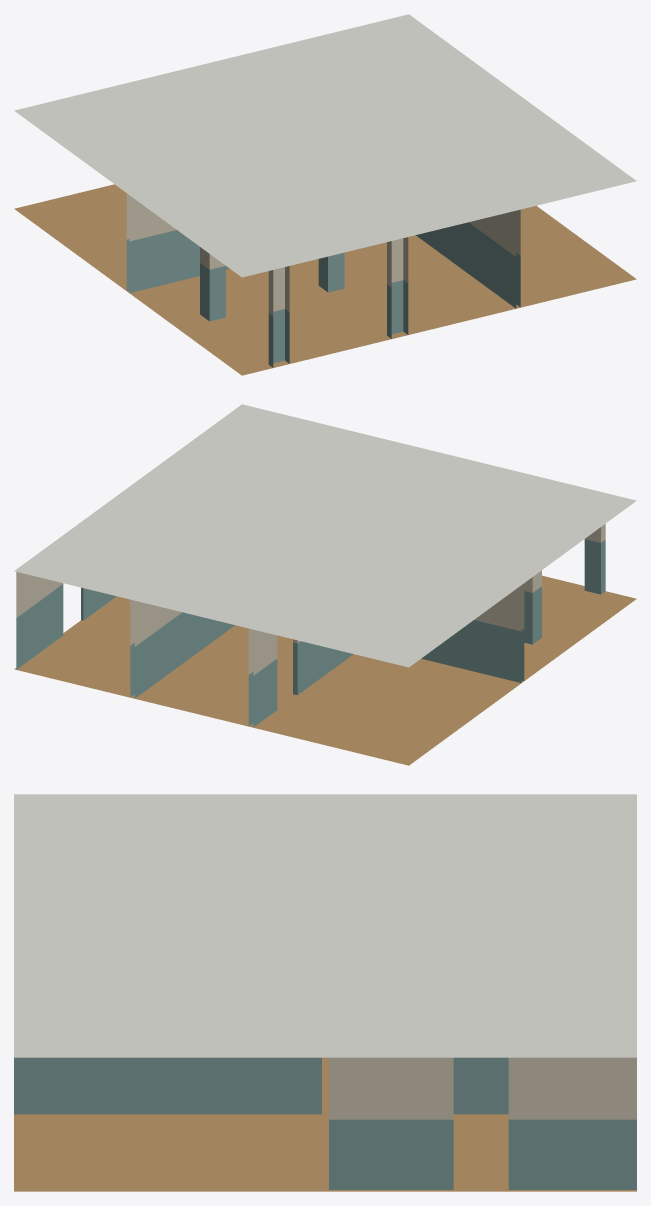
The model's file is chunk_2_1.glb.
3 renders of one model, top to bottom at view 1: azimuth 30°, elevation 25°; view 2: azimuth 150°, elevation 25°; view 3: azimuth 270°, elevation 25°, orthographic. The views are drawn at different scales.
Parts seen in each view (by area): view 1: chunk_2_1; view 2: chunk_2_1; view 3: chunk_2_1.
Boxes of the visible parts, <box> form: chunk_2_1: <box>14,14,636,375</box>; chunk_2_1: <box>14,404,636,765</box>; chunk_2_1: <box>14,794,636,1191</box>.
Size of the model in its own units: 12 by 2.85 by 12.
